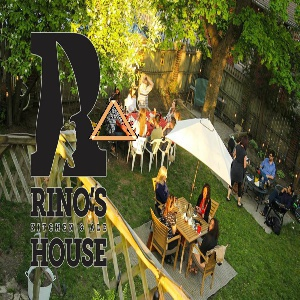triangle: (87, 96, 141, 143)
